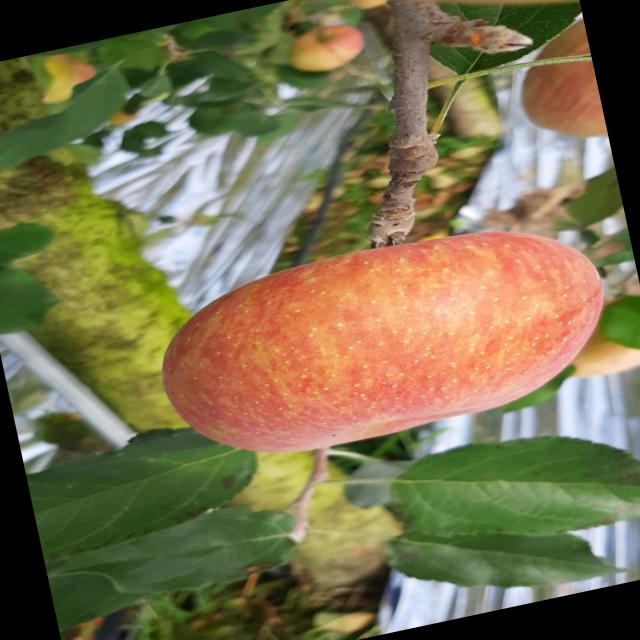fresh: (133, 195, 635, 490)
